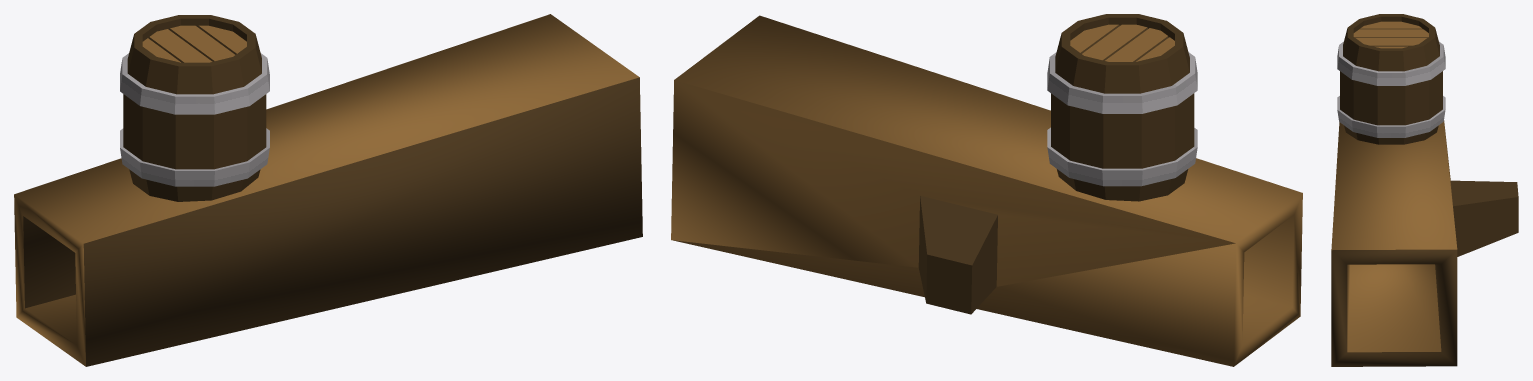
The model's file is IP2_1_treeStump.obj.
3 renders of one model, left to right at view 1: azimuth 30°, elevation 25°; view 2: azimuth 150°, elevation 25°; view 3: azimuth 270°, elevation 25°, orthographic. The views are drawn at different scales.
Visible parts, largest first — view 1: Fallen_Trunk_01, Barril_Abierto_object3.034; view 2: Fallen_Trunk_01, Barril_Abierto_object3.034; view 3: Fallen_Trunk_01, Barril_Abierto_object3.034.
Part boxes in pixels (x1,y1,x2,y2): Fallen_Trunk_01: [14, 14, 642, 366]; Barril_Abierto_object3.034: [120, 15, 269, 201]; Fallen_Trunk_01: [671, 15, 1302, 366]; Barril_Abierto_object3.034: [1047, 14, 1197, 201]; Fallen_Trunk_01: [1331, 120, 1518, 366]; Barril_Abierto_object3.034: [1337, 14, 1445, 144].
Size of the model in its own units: 54.71 by 25.15 by 22.19.
